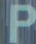Parking: (6, 2, 35, 41)
